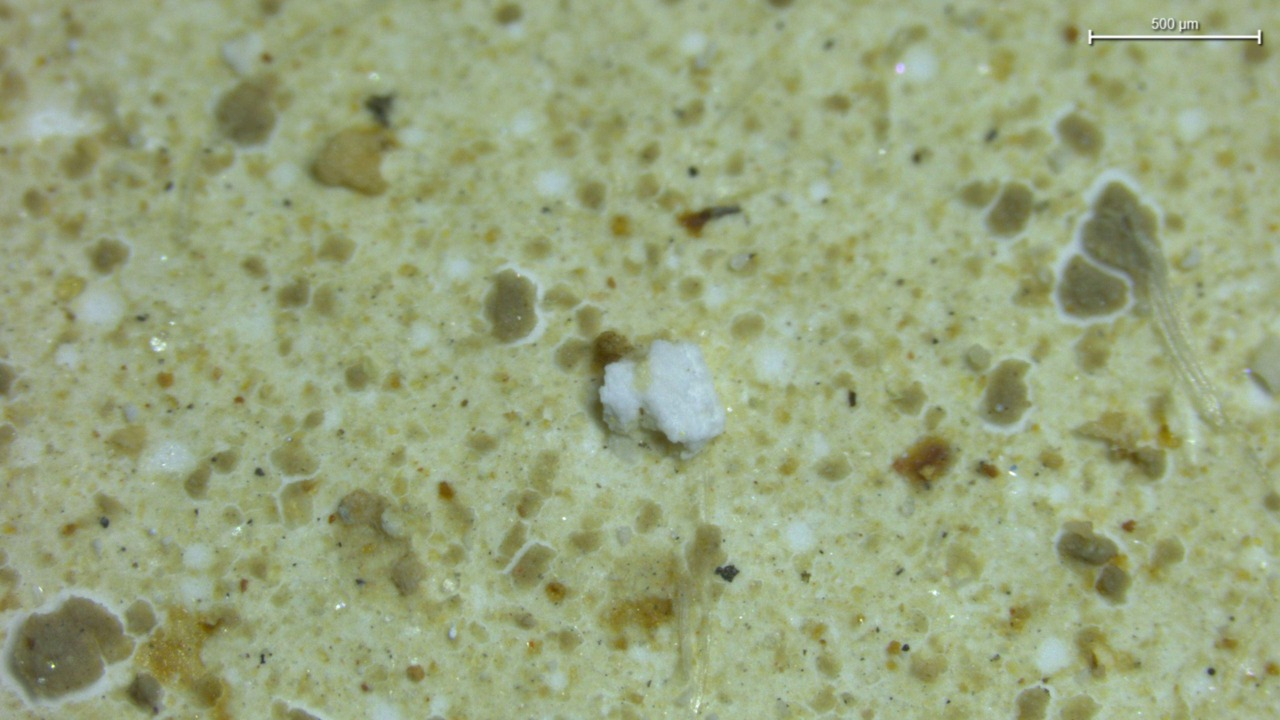microplastic_fragment: (600, 340, 725, 451)
